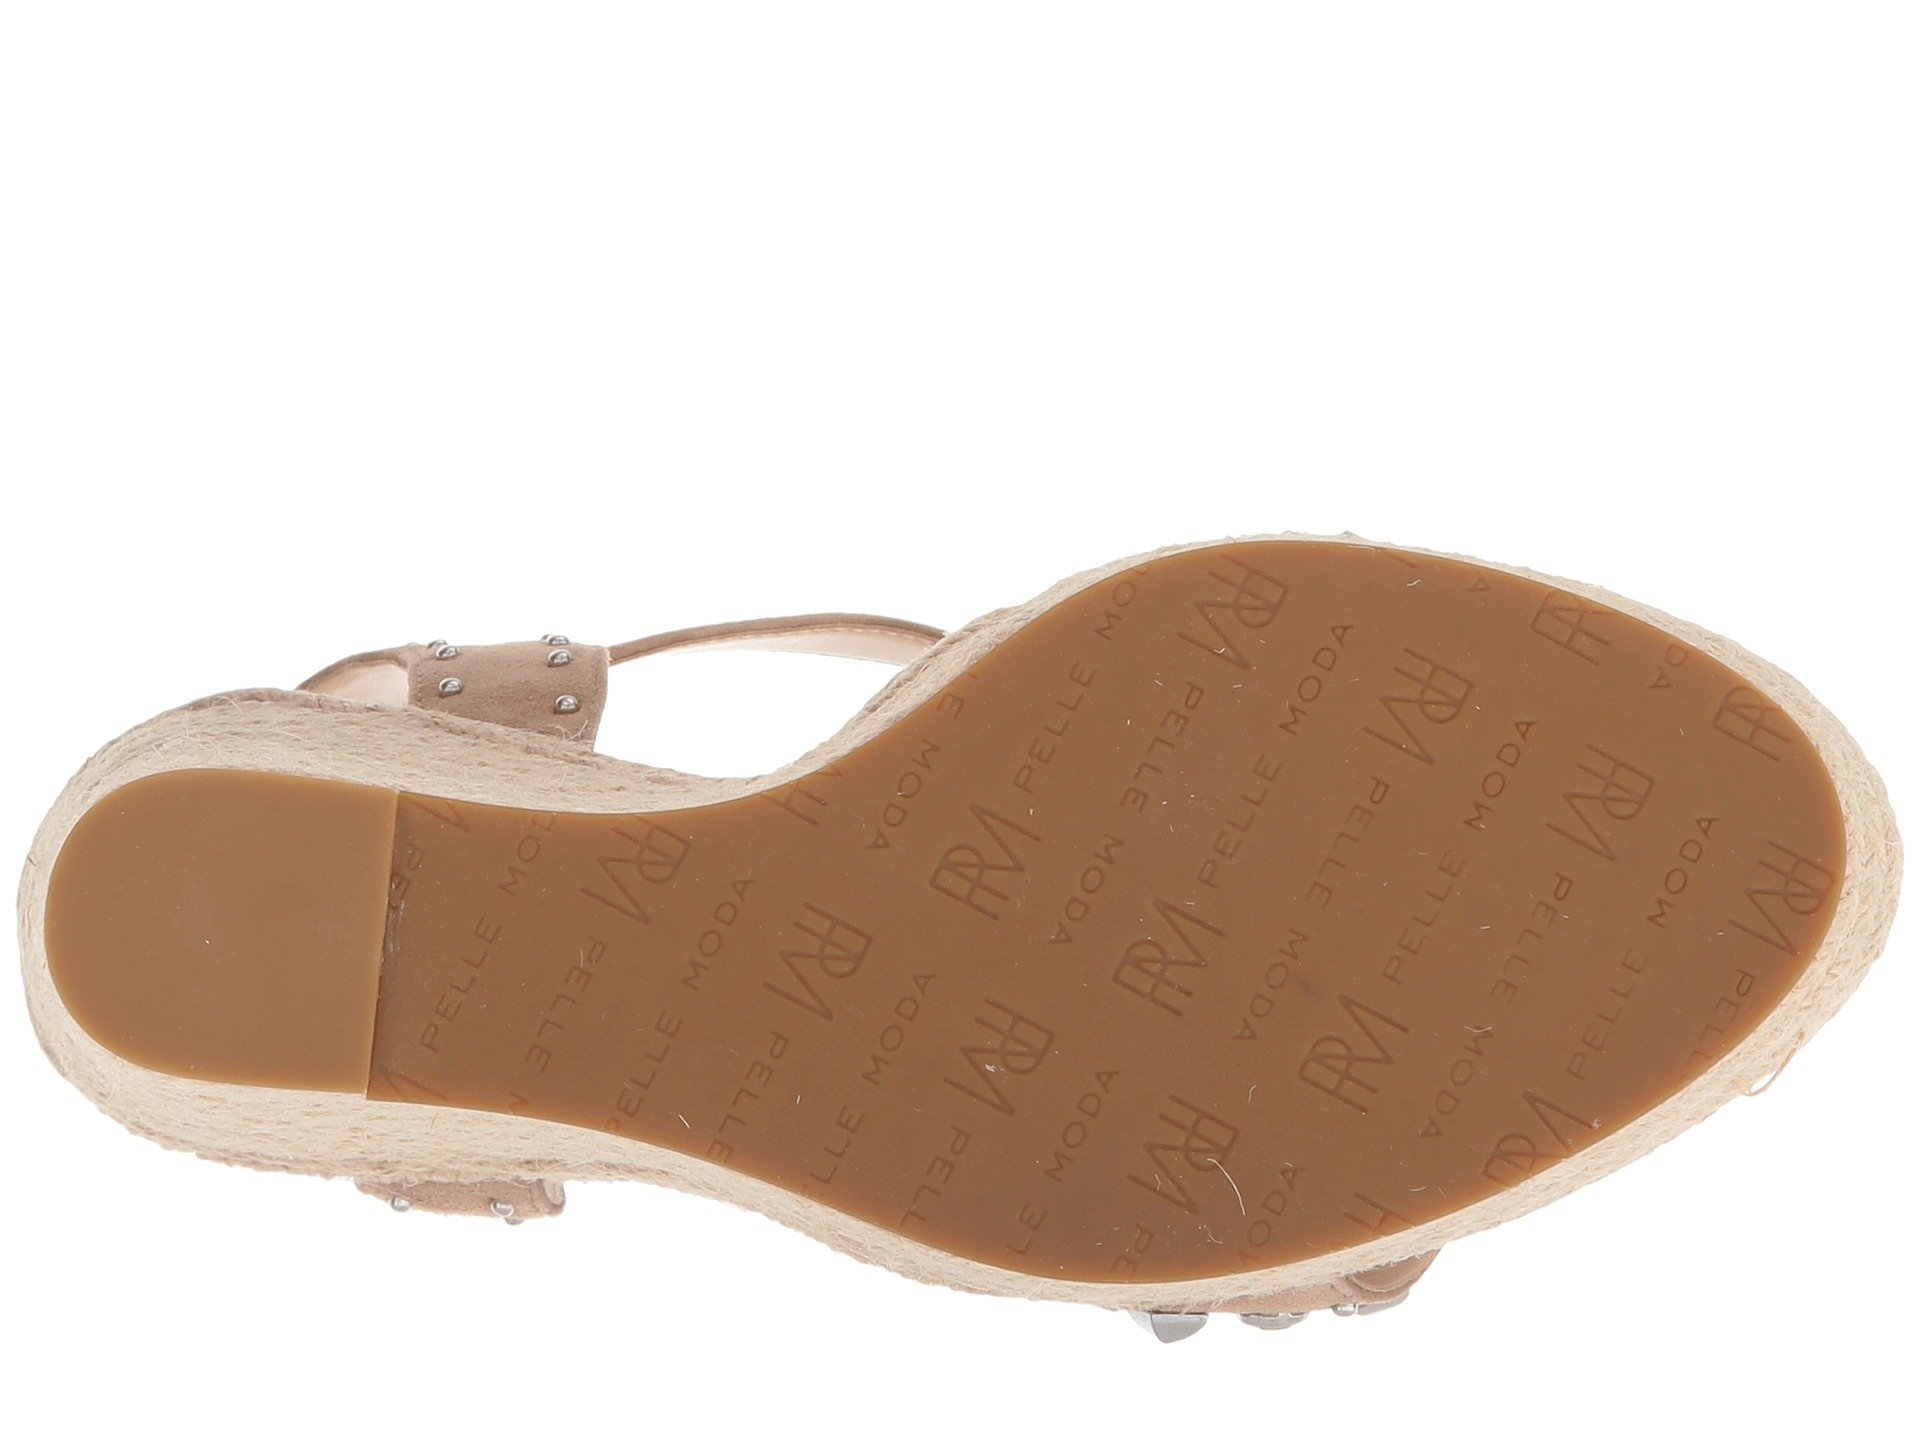text: (966, 667, 1510, 1174)
